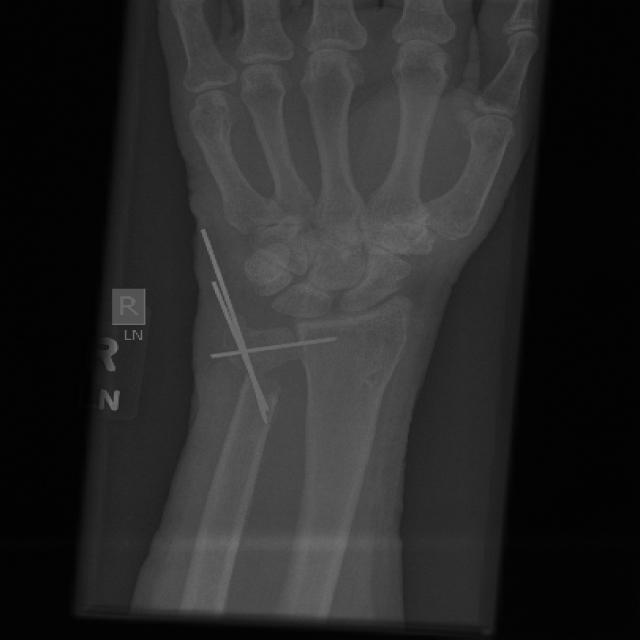fingers positive: (204, 311, 333, 431)
